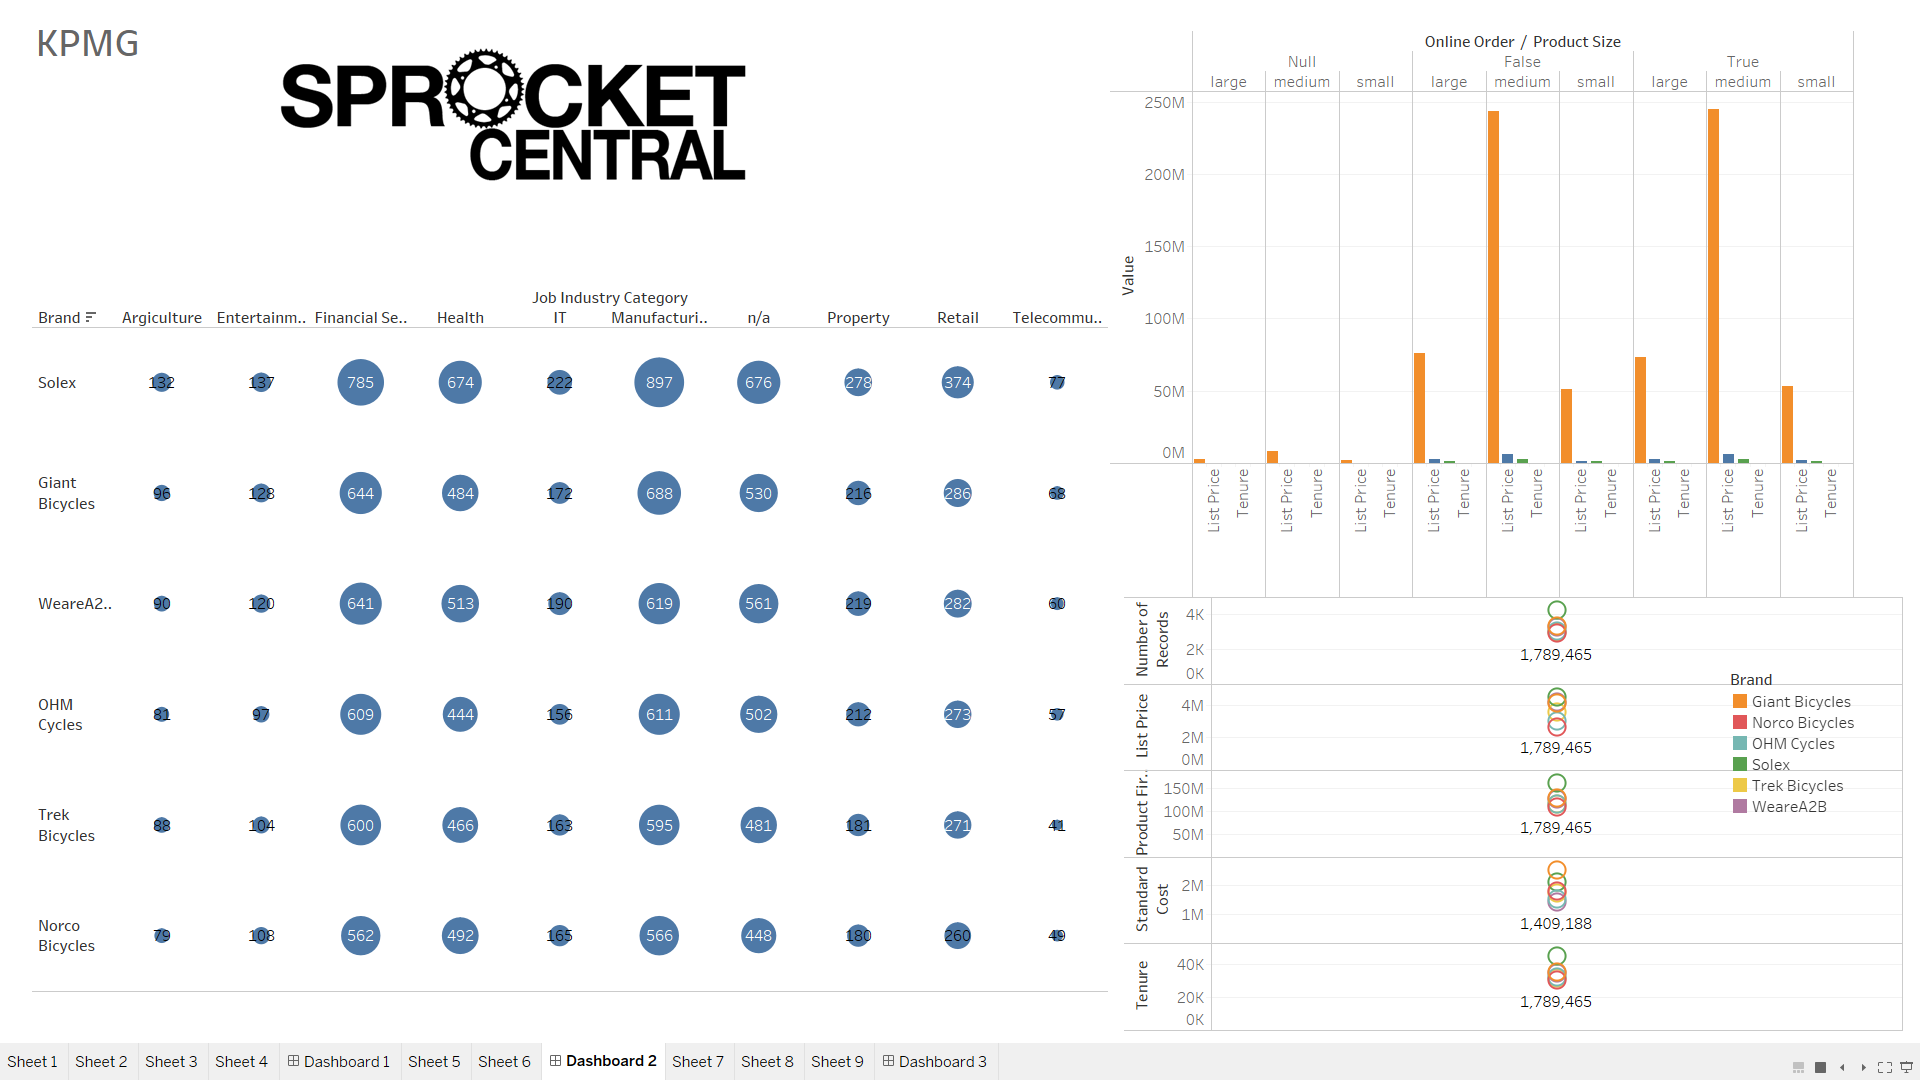

Layout of this report page (visuals, bound fields, positions):
{"tool":"tableau","page":{"name":"Dashboard 2","canvas":[1000,1000],"units":"permille","ordinal":1},"visuals":[{"type":"text","box":[16.9,10.3,67.6,58.4]},{"type":"worksheet","title":"Sheet 4","mark":"Automatic","cols":["online_order","product_size"],"box":[578.1,29.8,387.4,568.2]},{"type":"image","param":"Image/sprocket_central_logo.png","box":[145.4,45.8,409.8,158.1]},{"type":"worksheet","title":"Sheet 6","mark":"Pie","rows":["brand"],"cols":["job_industry_category"],"box":[16.9,274.9,560.6,675.8]},{"type":"worksheet","title":"Sheet 5","mark":"Shape","rows":["Number of Records","list_price","product_first_sold_date","standard_cost","tenure"],"box":[585.4,572.7,405.6,415.8]},{"type":"legend","title":"Sheet 5","param":"[federated.10zzsdp0hoaa021cgm0eb0f26sjg].[none:brand:nk]","box":[901,641.5,84.5,169.5]}]}

Visuals, with their boxes on the dashboard's canvas, which has no fixed pixel size, in thousandths of its width and height (x1, y1, x2, y2). These are canvas units, not pixel positions in the 1920x1080 screenshot, which may show the page scaled, cropped or inside an application window:
text: 17:10:84:69
"Sheet 4" worksheet: 578:30:966:598
image: 145:46:555:204
"Sheet 6" worksheet (Pie marks): 17:275:578:951
"Sheet 5" worksheet (Shape marks): 585:573:991:988
"Sheet 5" legend: 901:642:986:811
